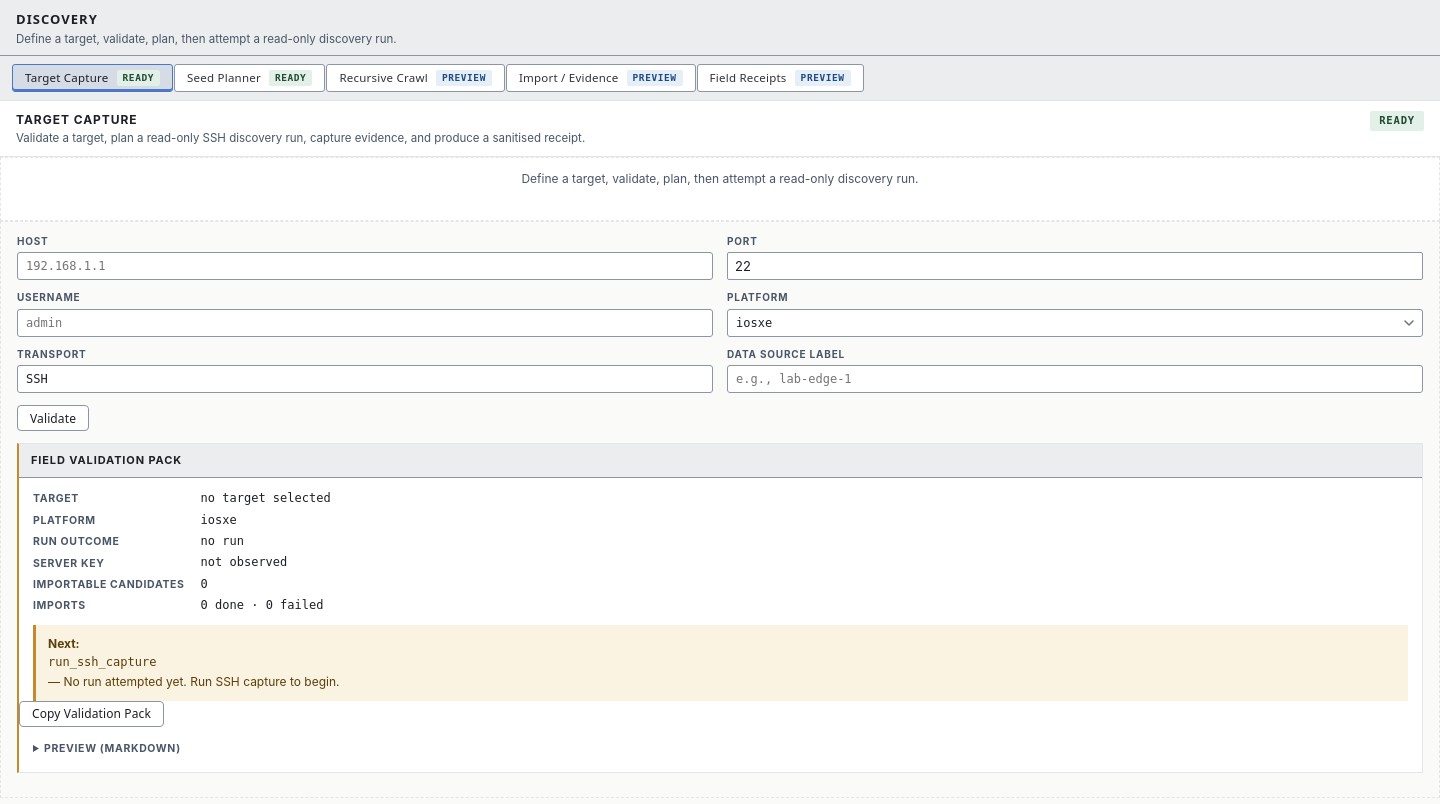
Test case: DiscoveryMode — V1AZ SSH execution › does not render the SSH run path when plan has non-read-only commands
Type "x" into the field labelled "Host" at {"x": 365, "y": 266}, box [17,252,713,280]
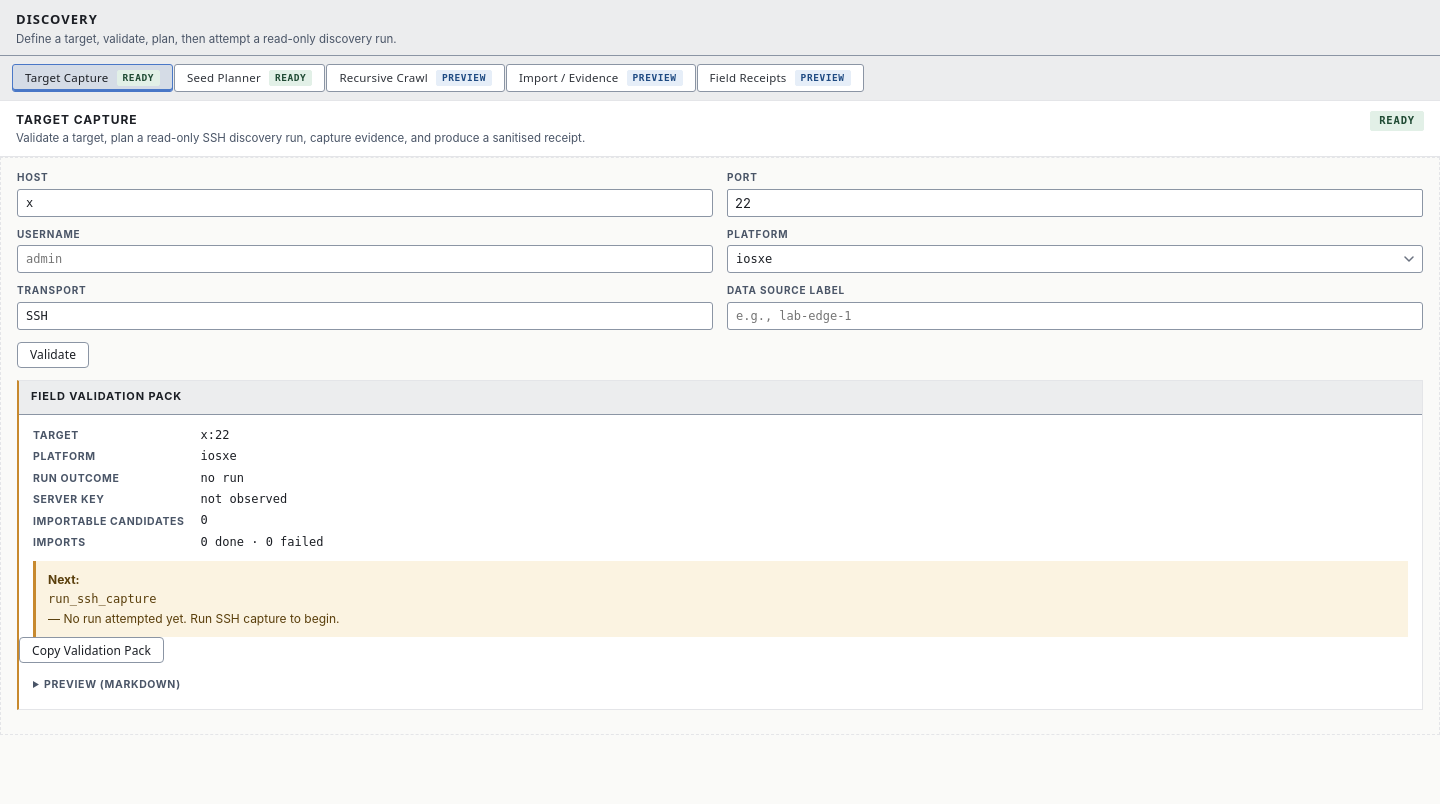
Type "x" into the field labelled "Username" at {"x": 365, "y": 259}, box [17,245,713,273]
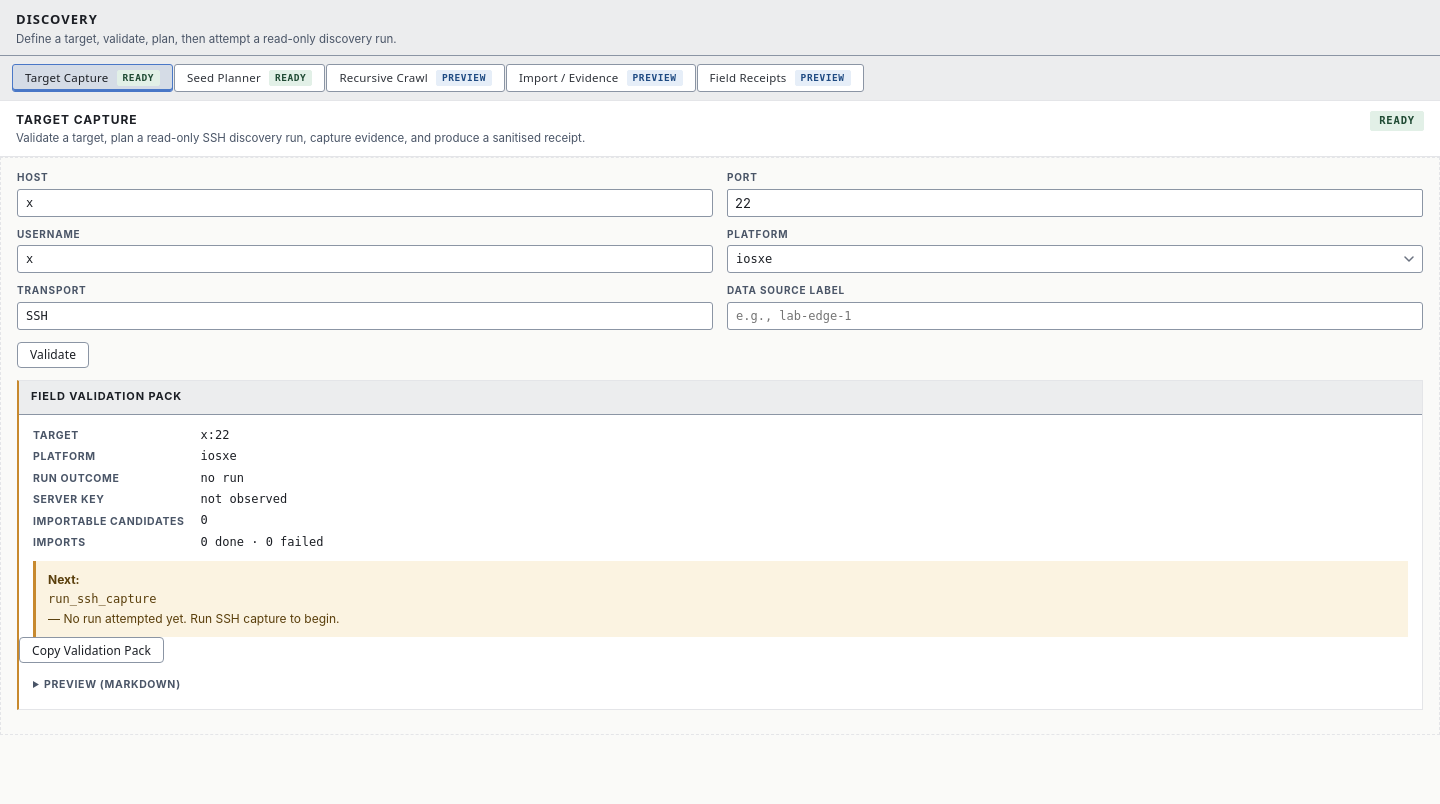
Type "x" into the field labelled "Data Source Label" at {"x": 1075, "y": 316}, box [727,302,1423,330]
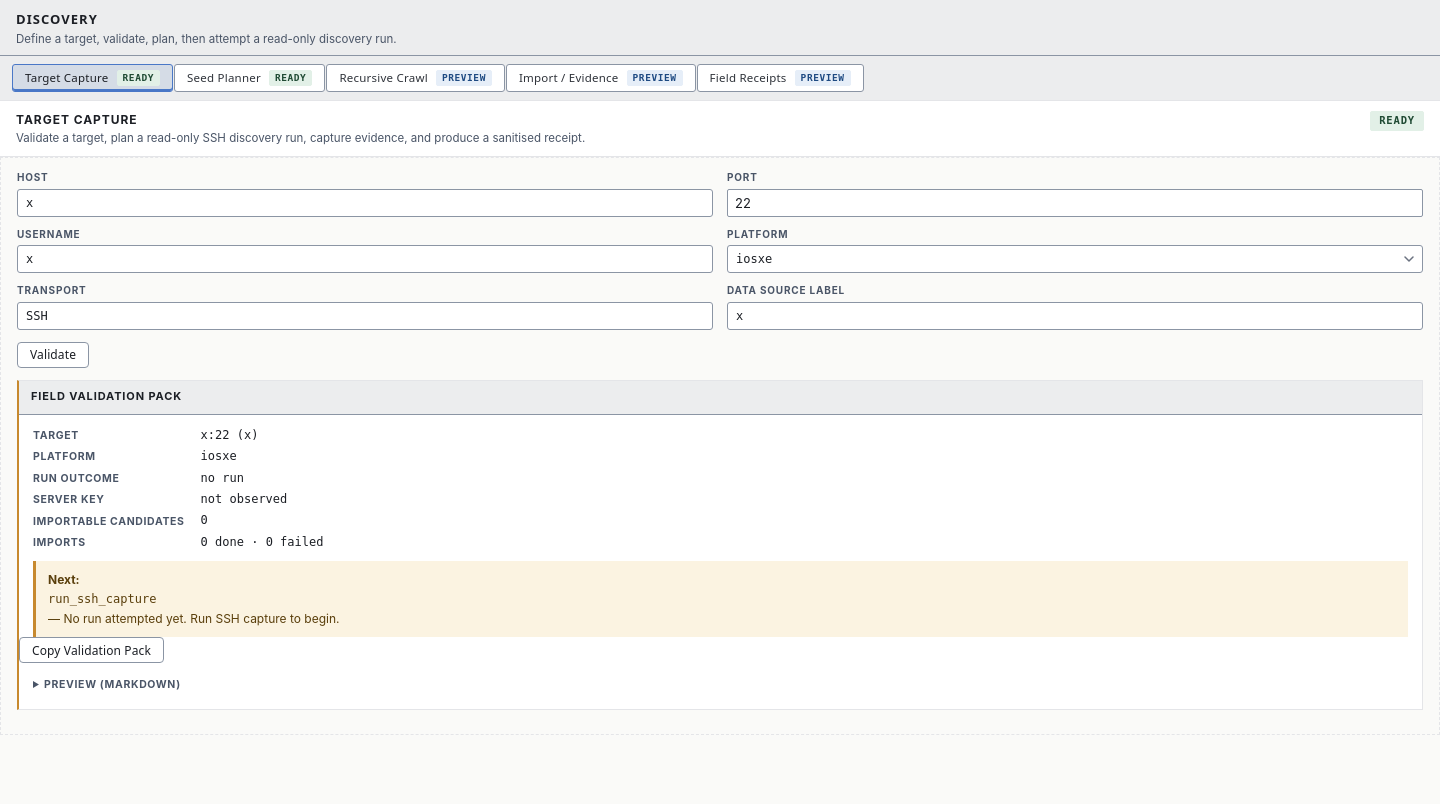
Click the button with test id "discovery-validate-btn" at {"x": 53, "y": 355}, box [17,342,89,368]
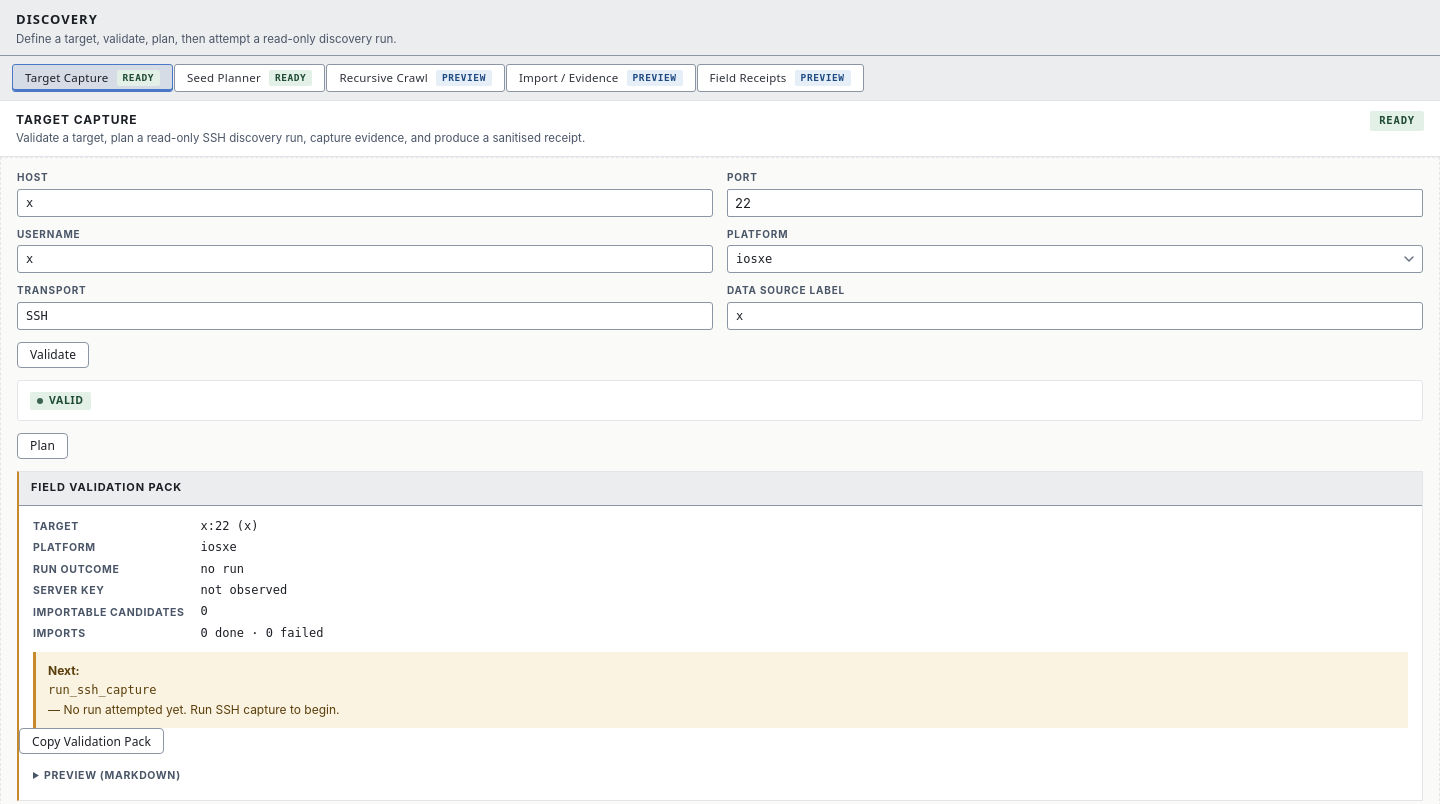
Now the text "Valid" is shown, box [30,392,91,410]
Click the button with test id "discovery-plan-btn" at {"x": 42, "y": 446}, box [17,433,68,459]
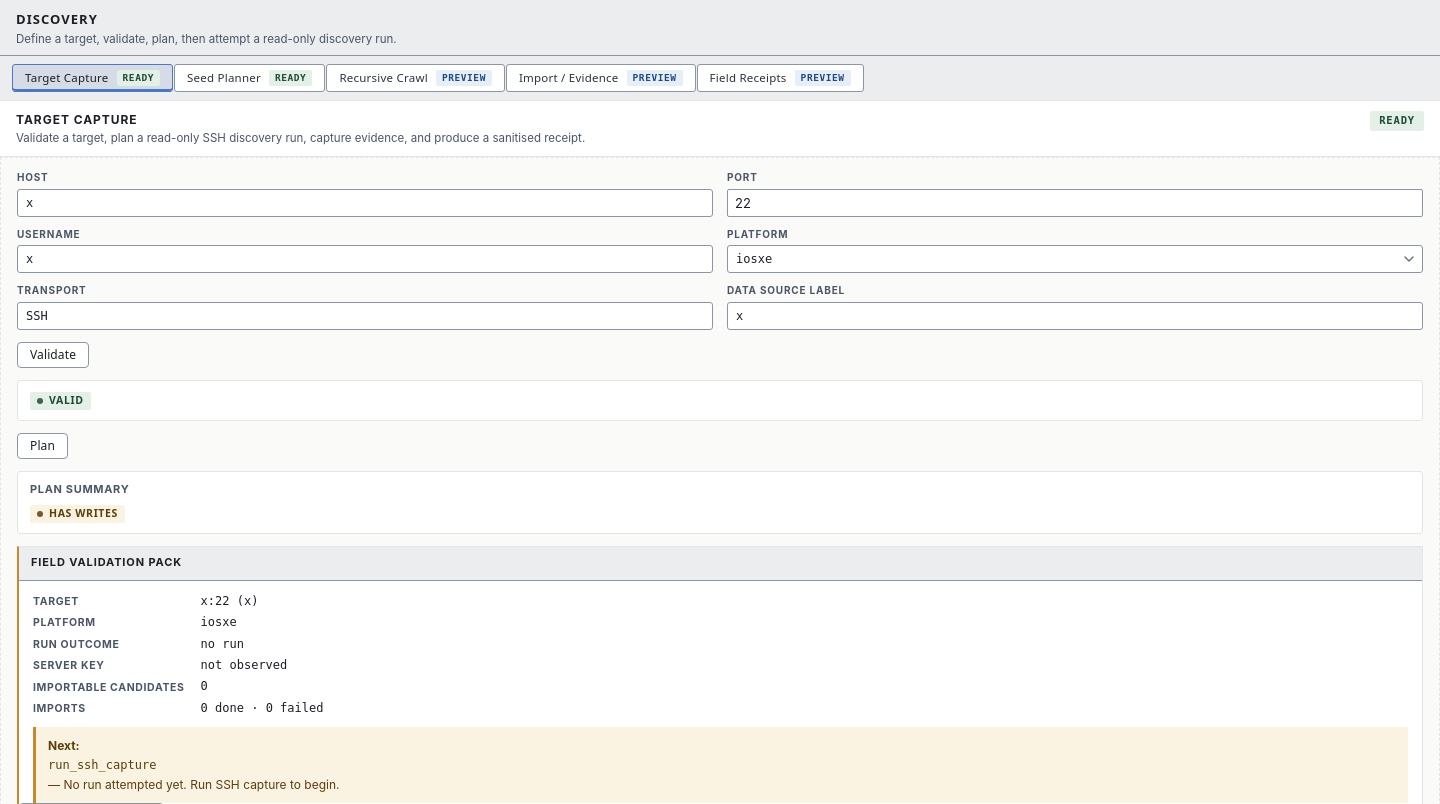
Now the element with test id "discovery-plan-summary" is shown, box [17,471,1423,534]
